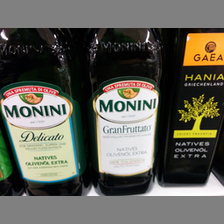oil: (1, 30, 92, 195), (85, 28, 163, 195), (160, 28, 224, 187)
